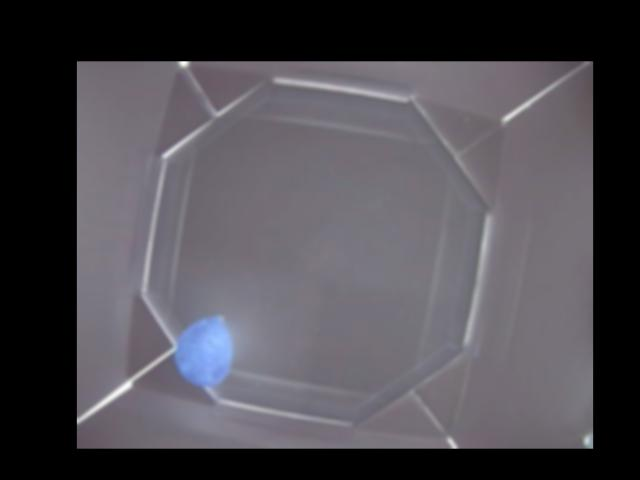Potato: (175, 314, 230, 386)
